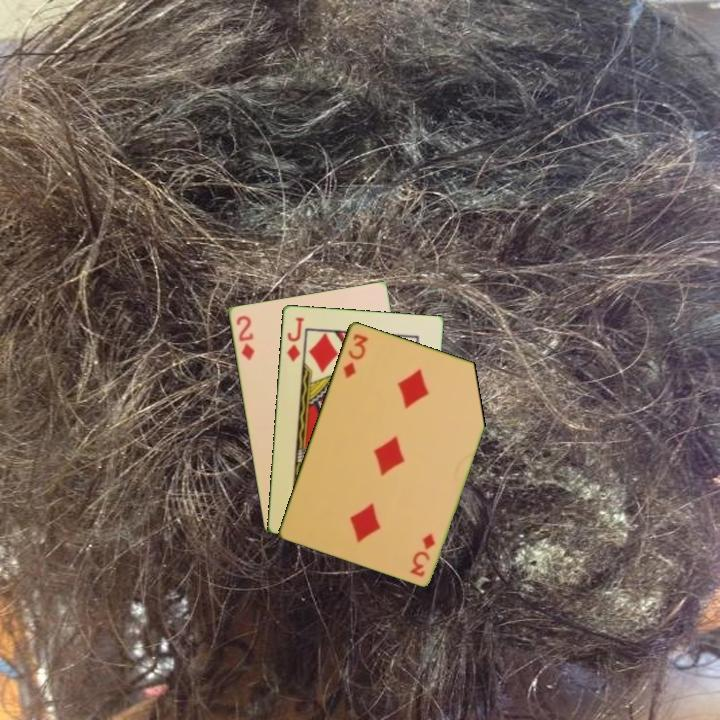2d: (232, 312, 257, 363)
3d: (339, 330, 371, 381), (407, 530, 438, 579)
Jd: (283, 313, 306, 364)
